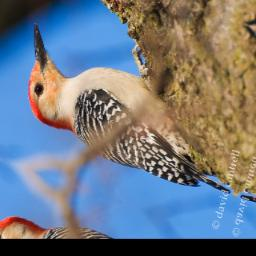Woodpecker: (5, 21, 256, 202)
